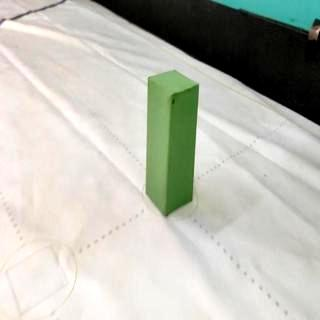greenbox: (147, 68, 200, 218)
